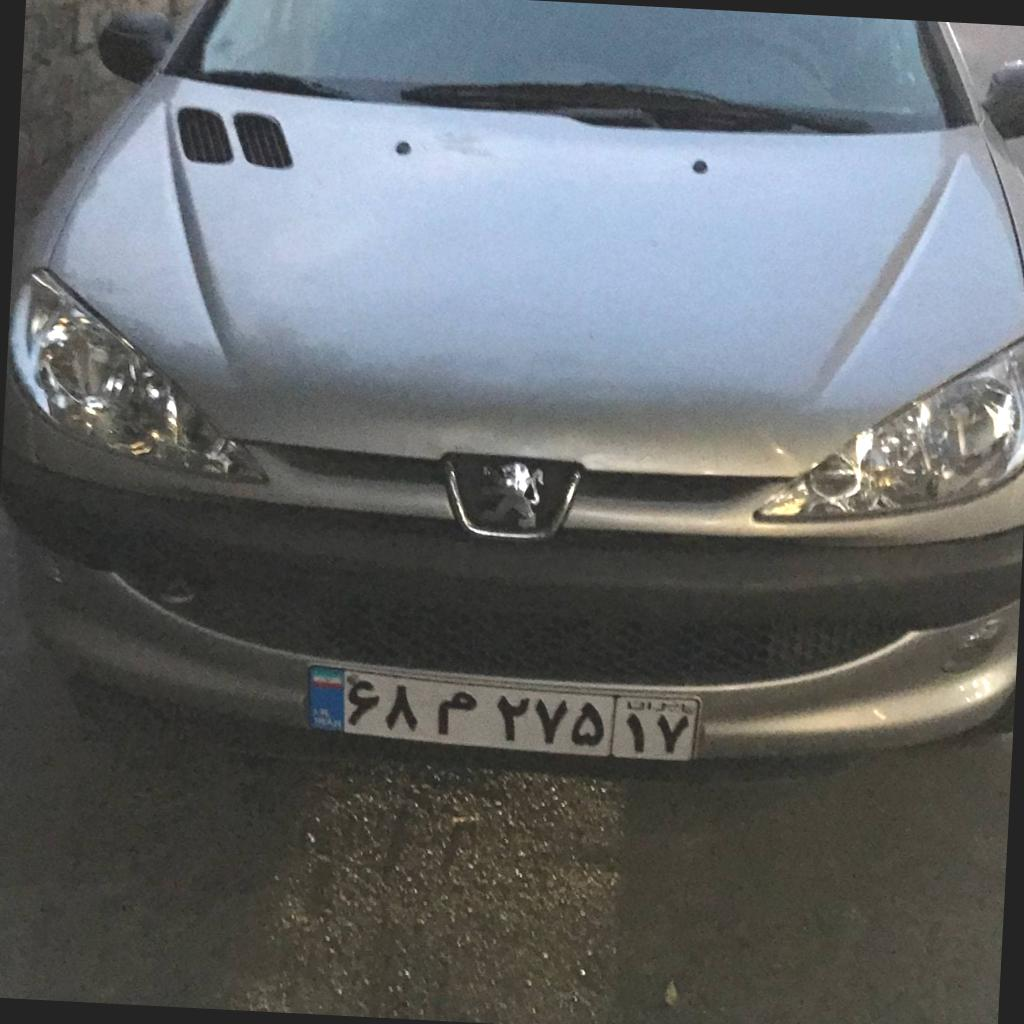Plates: (308, 665, 700, 762)
